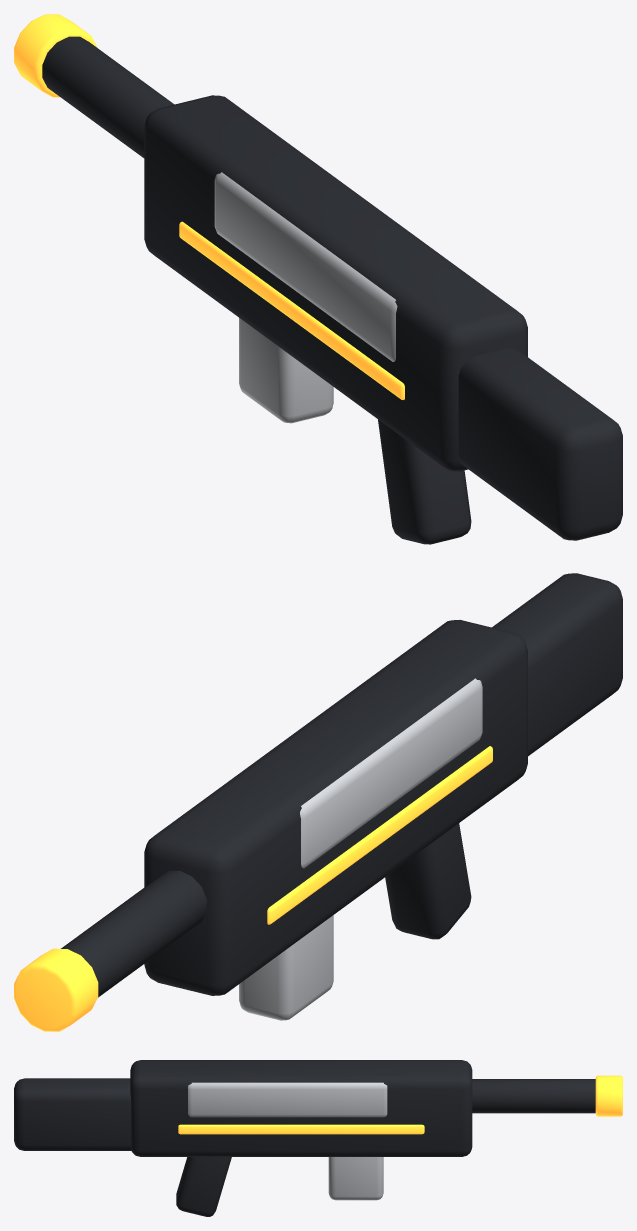
Rendered from rifle.glb.
3 views of the same model, one above another, from view 1: azimuth 30°, elevation 25°; view 2: azimuth 150°, elevation 25°; view 3: azimuth 270°, elevation 25° (orthographic). The views are drawn at different scales.
Parts seen in each view (by area): view 1: Body, Stock, Panel, Barrel, Grip, Mag, Glow, Tip; view 2: Body, Stock, Panel, Barrel, Grip, Mag, Tip, Glow; view 3: Body, Stock, Panel, Barrel, Glow, Grip, Mag, Tip.
Boxes of the visible parts, x1,y1,x2,y2 form: Body: [144, 95, 527, 471]; Stock: [458, 348, 622, 540]; Panel: [214, 172, 397, 361]; Barrel: [42, 36, 174, 157]; Grip: [378, 419, 471, 544]; Mag: [239, 318, 333, 423]; Glow: [179, 221, 404, 399]; Tip: [14, 14, 97, 97]; Body: [144, 620, 527, 995]; Stock: [492, 573, 622, 756]; Panel: [300, 678, 482, 868]; Barrel: [61, 871, 206, 997]; Grip: [385, 823, 471, 939]; Mag: [239, 915, 333, 1020]; Tip: [14, 948, 98, 1031]; Glow: [267, 746, 492, 924]; Body: [130, 1060, 472, 1156]; Stock: [14, 1078, 131, 1150]; Panel: [188, 1082, 387, 1117]; Barrel: [472, 1079, 595, 1113]; Glow: [178, 1124, 424, 1134]; Grip: [176, 1157, 231, 1216]; Mag: [328, 1157, 383, 1200]; Tip: [595, 1075, 622, 1116].
Size of the model in its own units: 0.086 by 0.2324 by 0.89.
